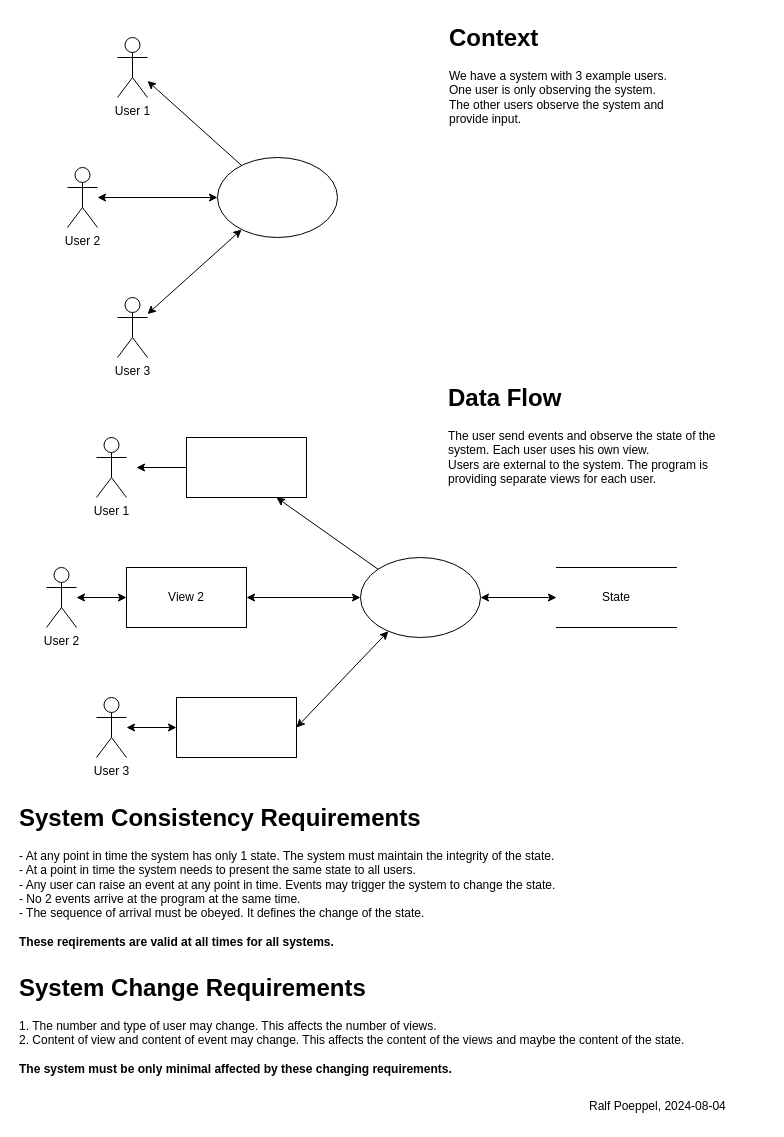
This 784x1137 diagram has some shape labels left out. Each missing label, with the box of its shape:
Program: (360, 556, 480, 638)
System: (216, 156, 338, 238)
View 1: (186, 436, 306, 498)
View 3: (176, 696, 296, 758)
